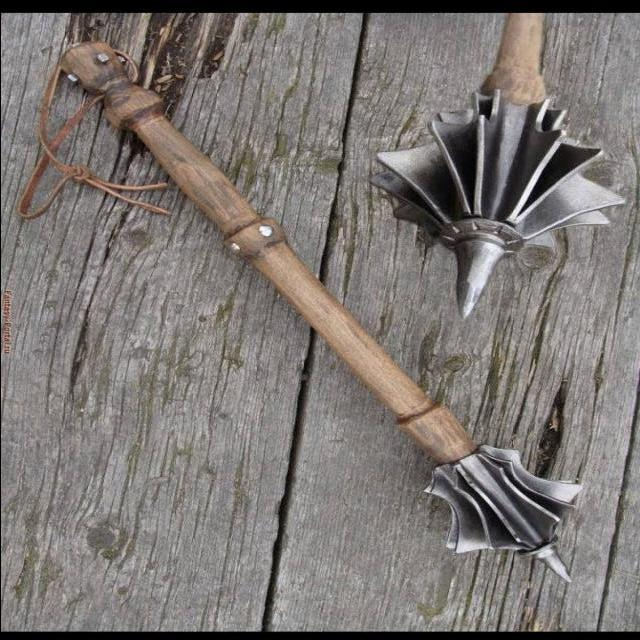mace: (68, 44, 588, 586), (368, 19, 623, 324)
